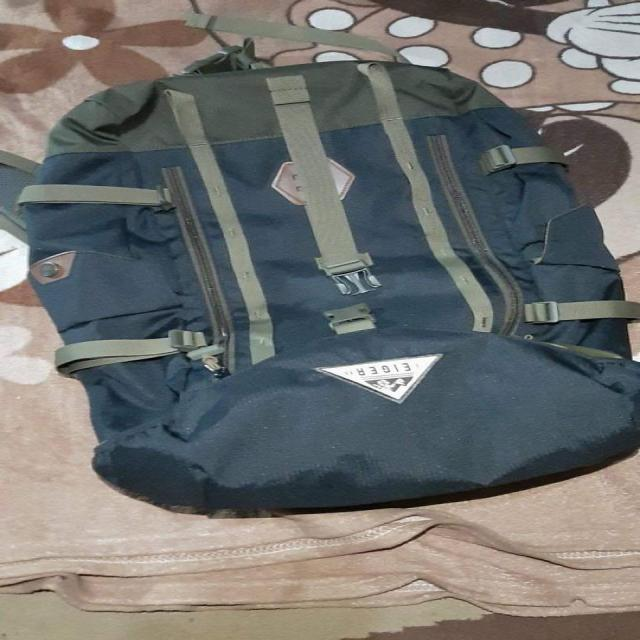bag: (38, 66, 640, 506)
